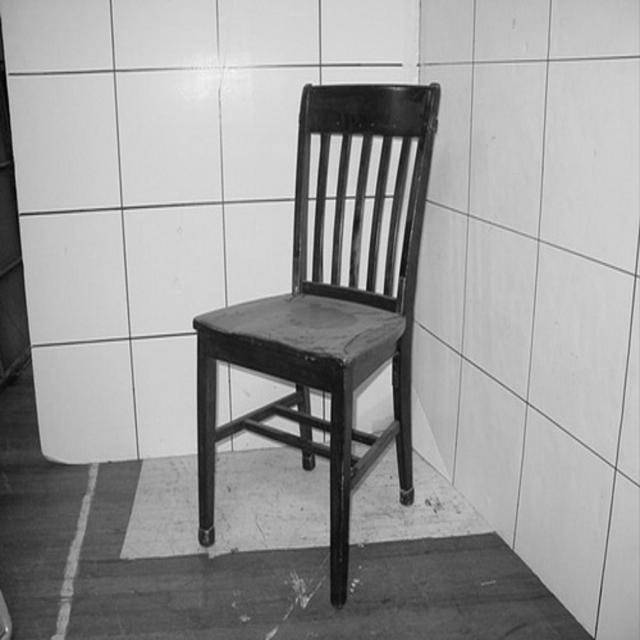chair: (190, 81, 444, 612)
